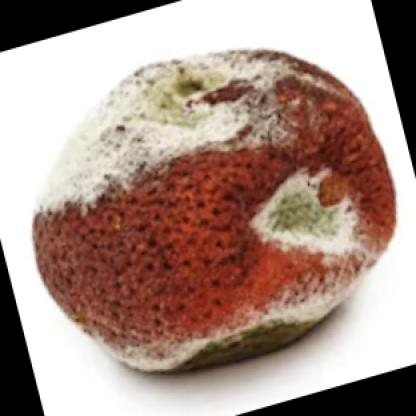rotten: (33, 53, 398, 374)
